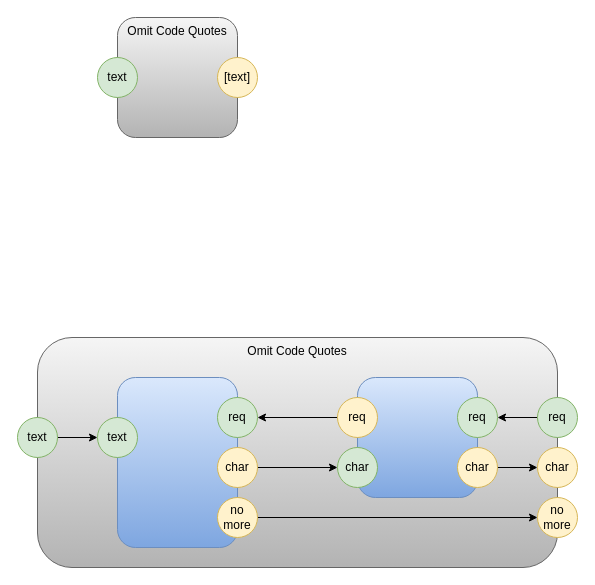
Some shapes in this 595 by 585 pixel diagram are drawn without their labels. The box of each missing label's shape, as (x1, y1, x2, y2) in pixels:
Character by Character: (116, 376, 238, 548)
Not Triple Quote: (356, 376, 478, 498)
